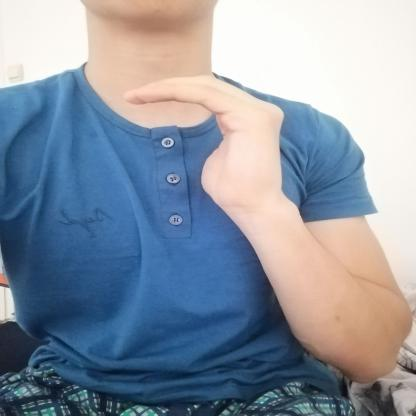HAA: (106, 66, 300, 213)
